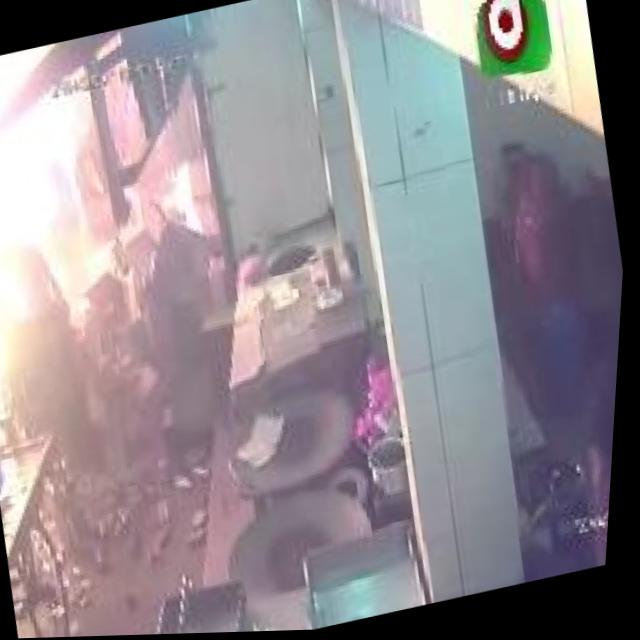fire: (0, 38, 155, 437)
